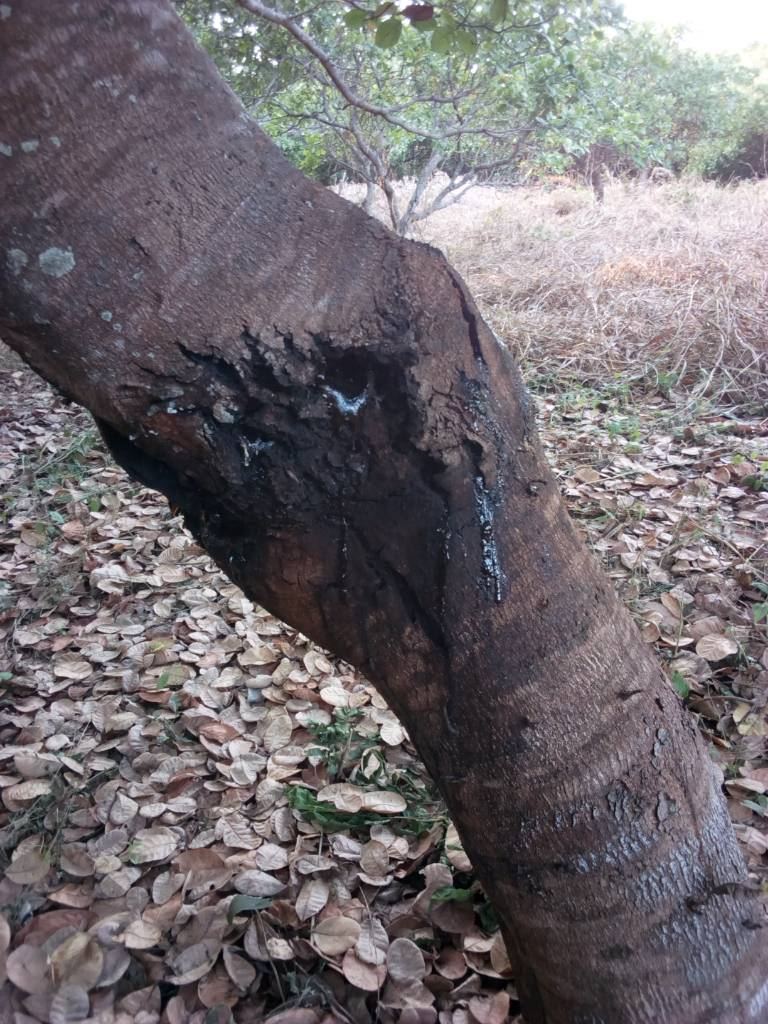Gommose: (155, 347, 533, 622)
